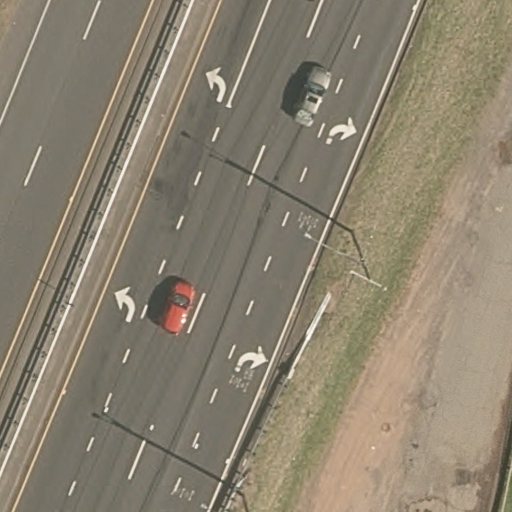DT: (336, 224, 398, 302)
